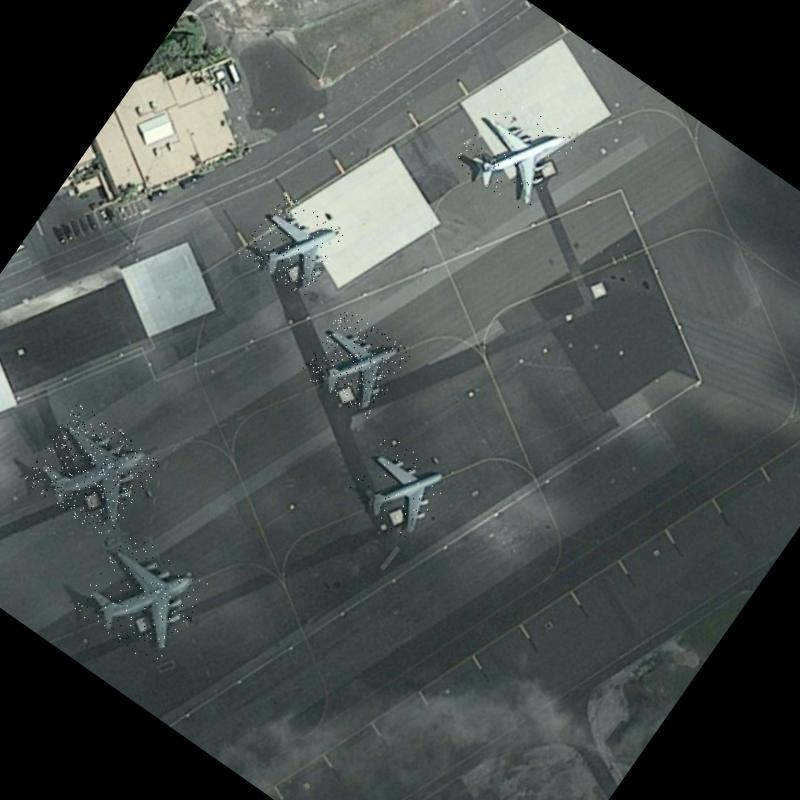A11: (447, 87, 578, 217)
A14: (299, 306, 412, 420), (344, 431, 456, 544), (239, 191, 348, 299)
A3: (22, 401, 163, 542), (71, 528, 211, 668)
